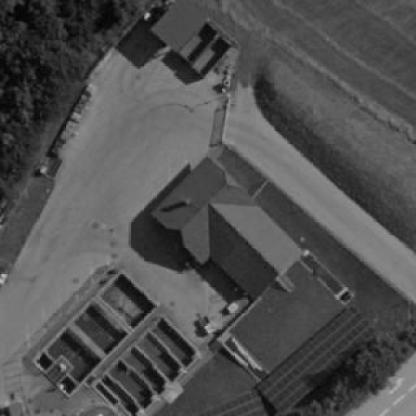solar-pv-panel: (257, 302, 376, 412), (193, 387, 269, 416)
